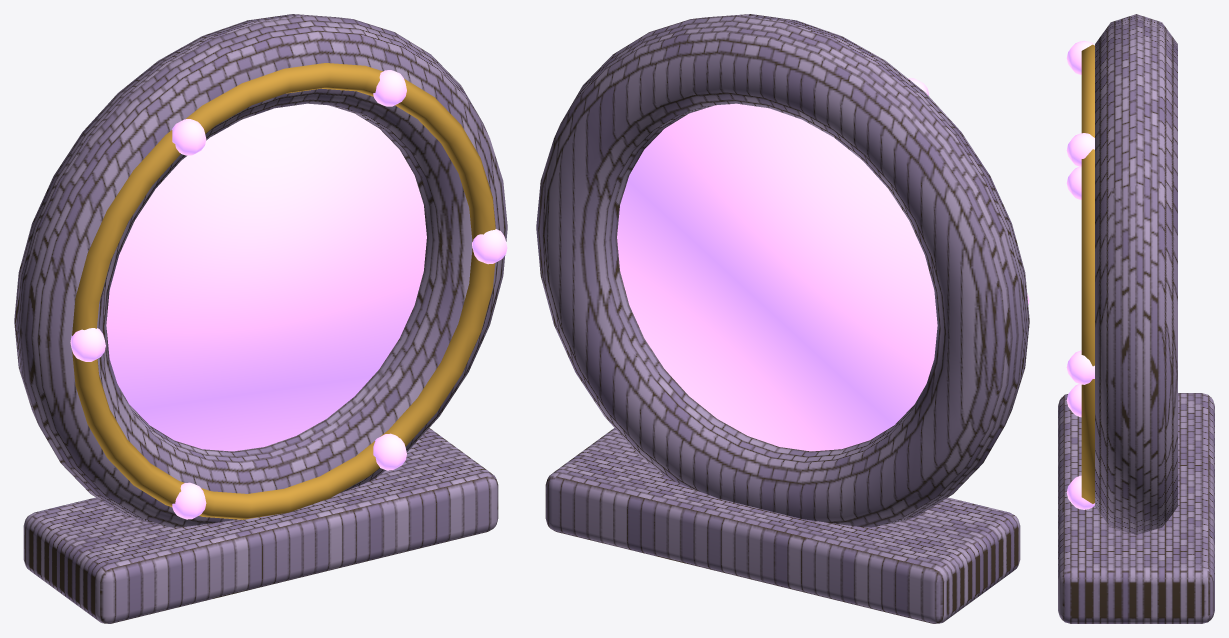
The model's file is waygate.glb.
3 renders of one model, left to right at view 1: azimuth 30°, elevation 25°; view 2: azimuth 150°, elevation 25°; view 3: azimuth 270°, elevation 25°, orthographic. The views are drawn at different scales.
Parts seen in each view (by area): view 1: waygate_body; view 2: waygate_body; view 3: waygate_body.
Boxes of the visible parts, x1,y1,x2,y2 form: waygate_body: [14, 14, 507, 623]; waygate_body: [536, 14, 1029, 623]; waygate_body: [1058, 14, 1214, 623].
Size of the model in its own units: 1.2 by 1.26 by 0.36.
Materials: 3 (1 with a texture image).
